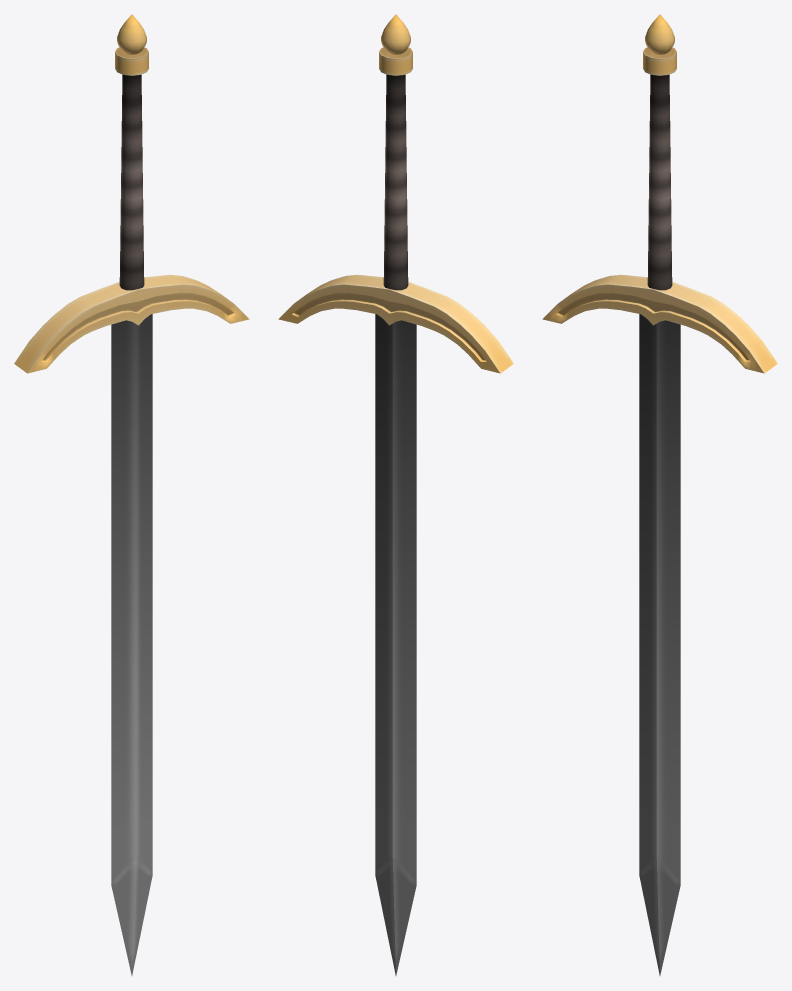
The model's file is sword2.glb.
3 views of the same model, side by side, from view 1: azimuth 30°, elevation 25°; view 2: azimuth 150°, elevation 25°; view 3: azimuth 330°, elevation 25° (orthographic).
Visible parts, largest first — view 1: Cylinder; view 2: Cylinder; view 3: Cylinder.
Part boxes in pixels (left/top/right/bottom): Cylinder: left=14, top=14, right=249, bottom=975; Cylinder: left=278, top=14, right=513, bottom=975; Cylinder: left=542, top=14, right=777, bottom=975.
Bounding box in the file's own units: 36.16 × 150 × 4.81.
1 material, 1 textured.
